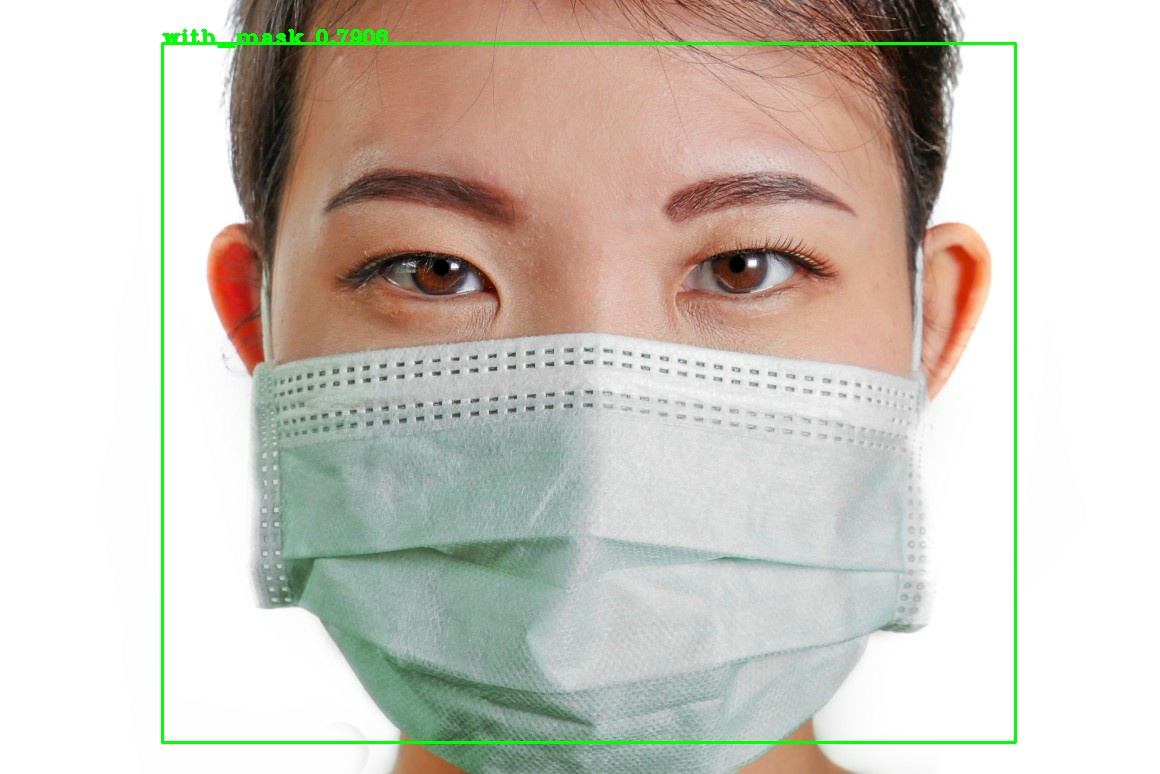with_mask: (191, 9, 991, 740)
